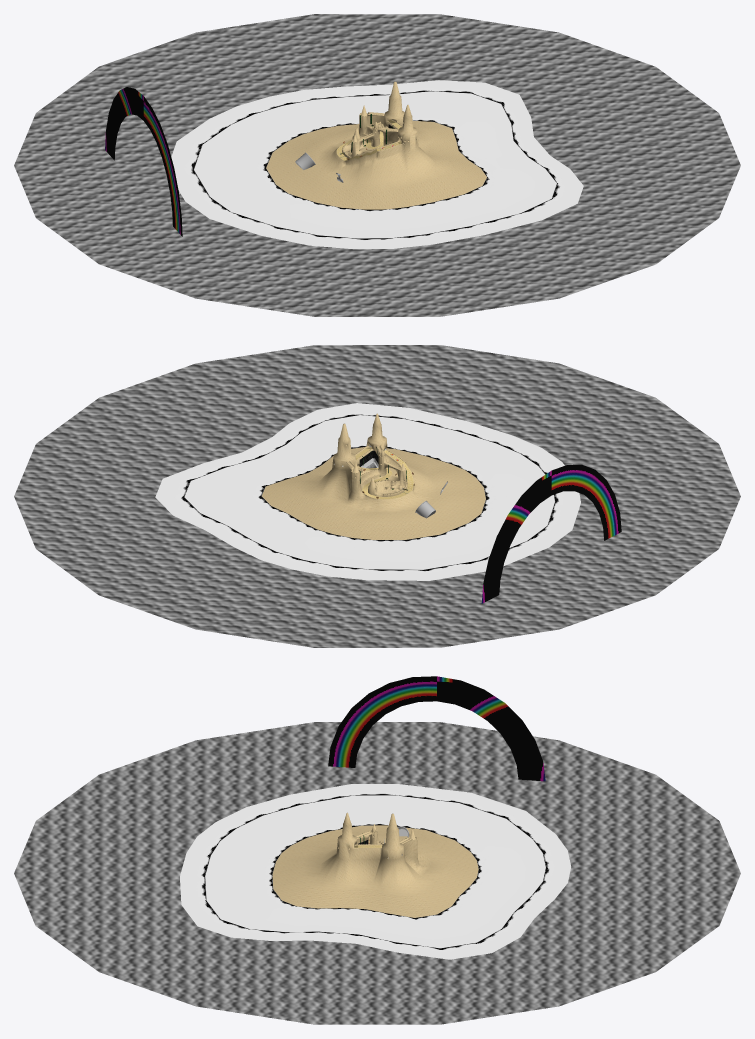
The picture shows the model from 3 angles, top to bottom: view 1: azimuth 30°, elevation 25°; view 2: azimuth 150°, elevation 25°; view 3: azimuth 270°, elevation 25°; orthographic projection.
Visible parts, largest first — view 1: WaterO.003, WavesO.001, SandO.001, RainbowO.001; view 2: WaterO.003, WavesO.001, SandO.001, RainbowO.001, RoadO.003; view 3: WaterO.003, WavesO.001, SandO.001, RainbowO.001.
Part boxes in pixels (x1,y1,x2,y2): WaterO.003: [14, 14, 740, 316]; WavesO.001: [171, 80, 583, 249]; SandO.001: [266, 81, 486, 209]; RainbowO.001: [105, 87, 182, 236]; WaterO.003: [14, 345, 740, 647]; WavesO.001: [155, 403, 580, 580]; SandO.001: [262, 413, 485, 539]; RainbowO.001: [481, 464, 621, 603]; RoadO.003: [342, 447, 413, 499]; WaterO.003: [14, 722, 740, 1024]; WavesO.001: [180, 784, 571, 959]; SandO.001: [272, 812, 478, 917]; RainbowO.001: [328, 676, 545, 781].
Size of the model in its own units: 445627 by 68863 by 452501.
20 materials, 19 textured.
